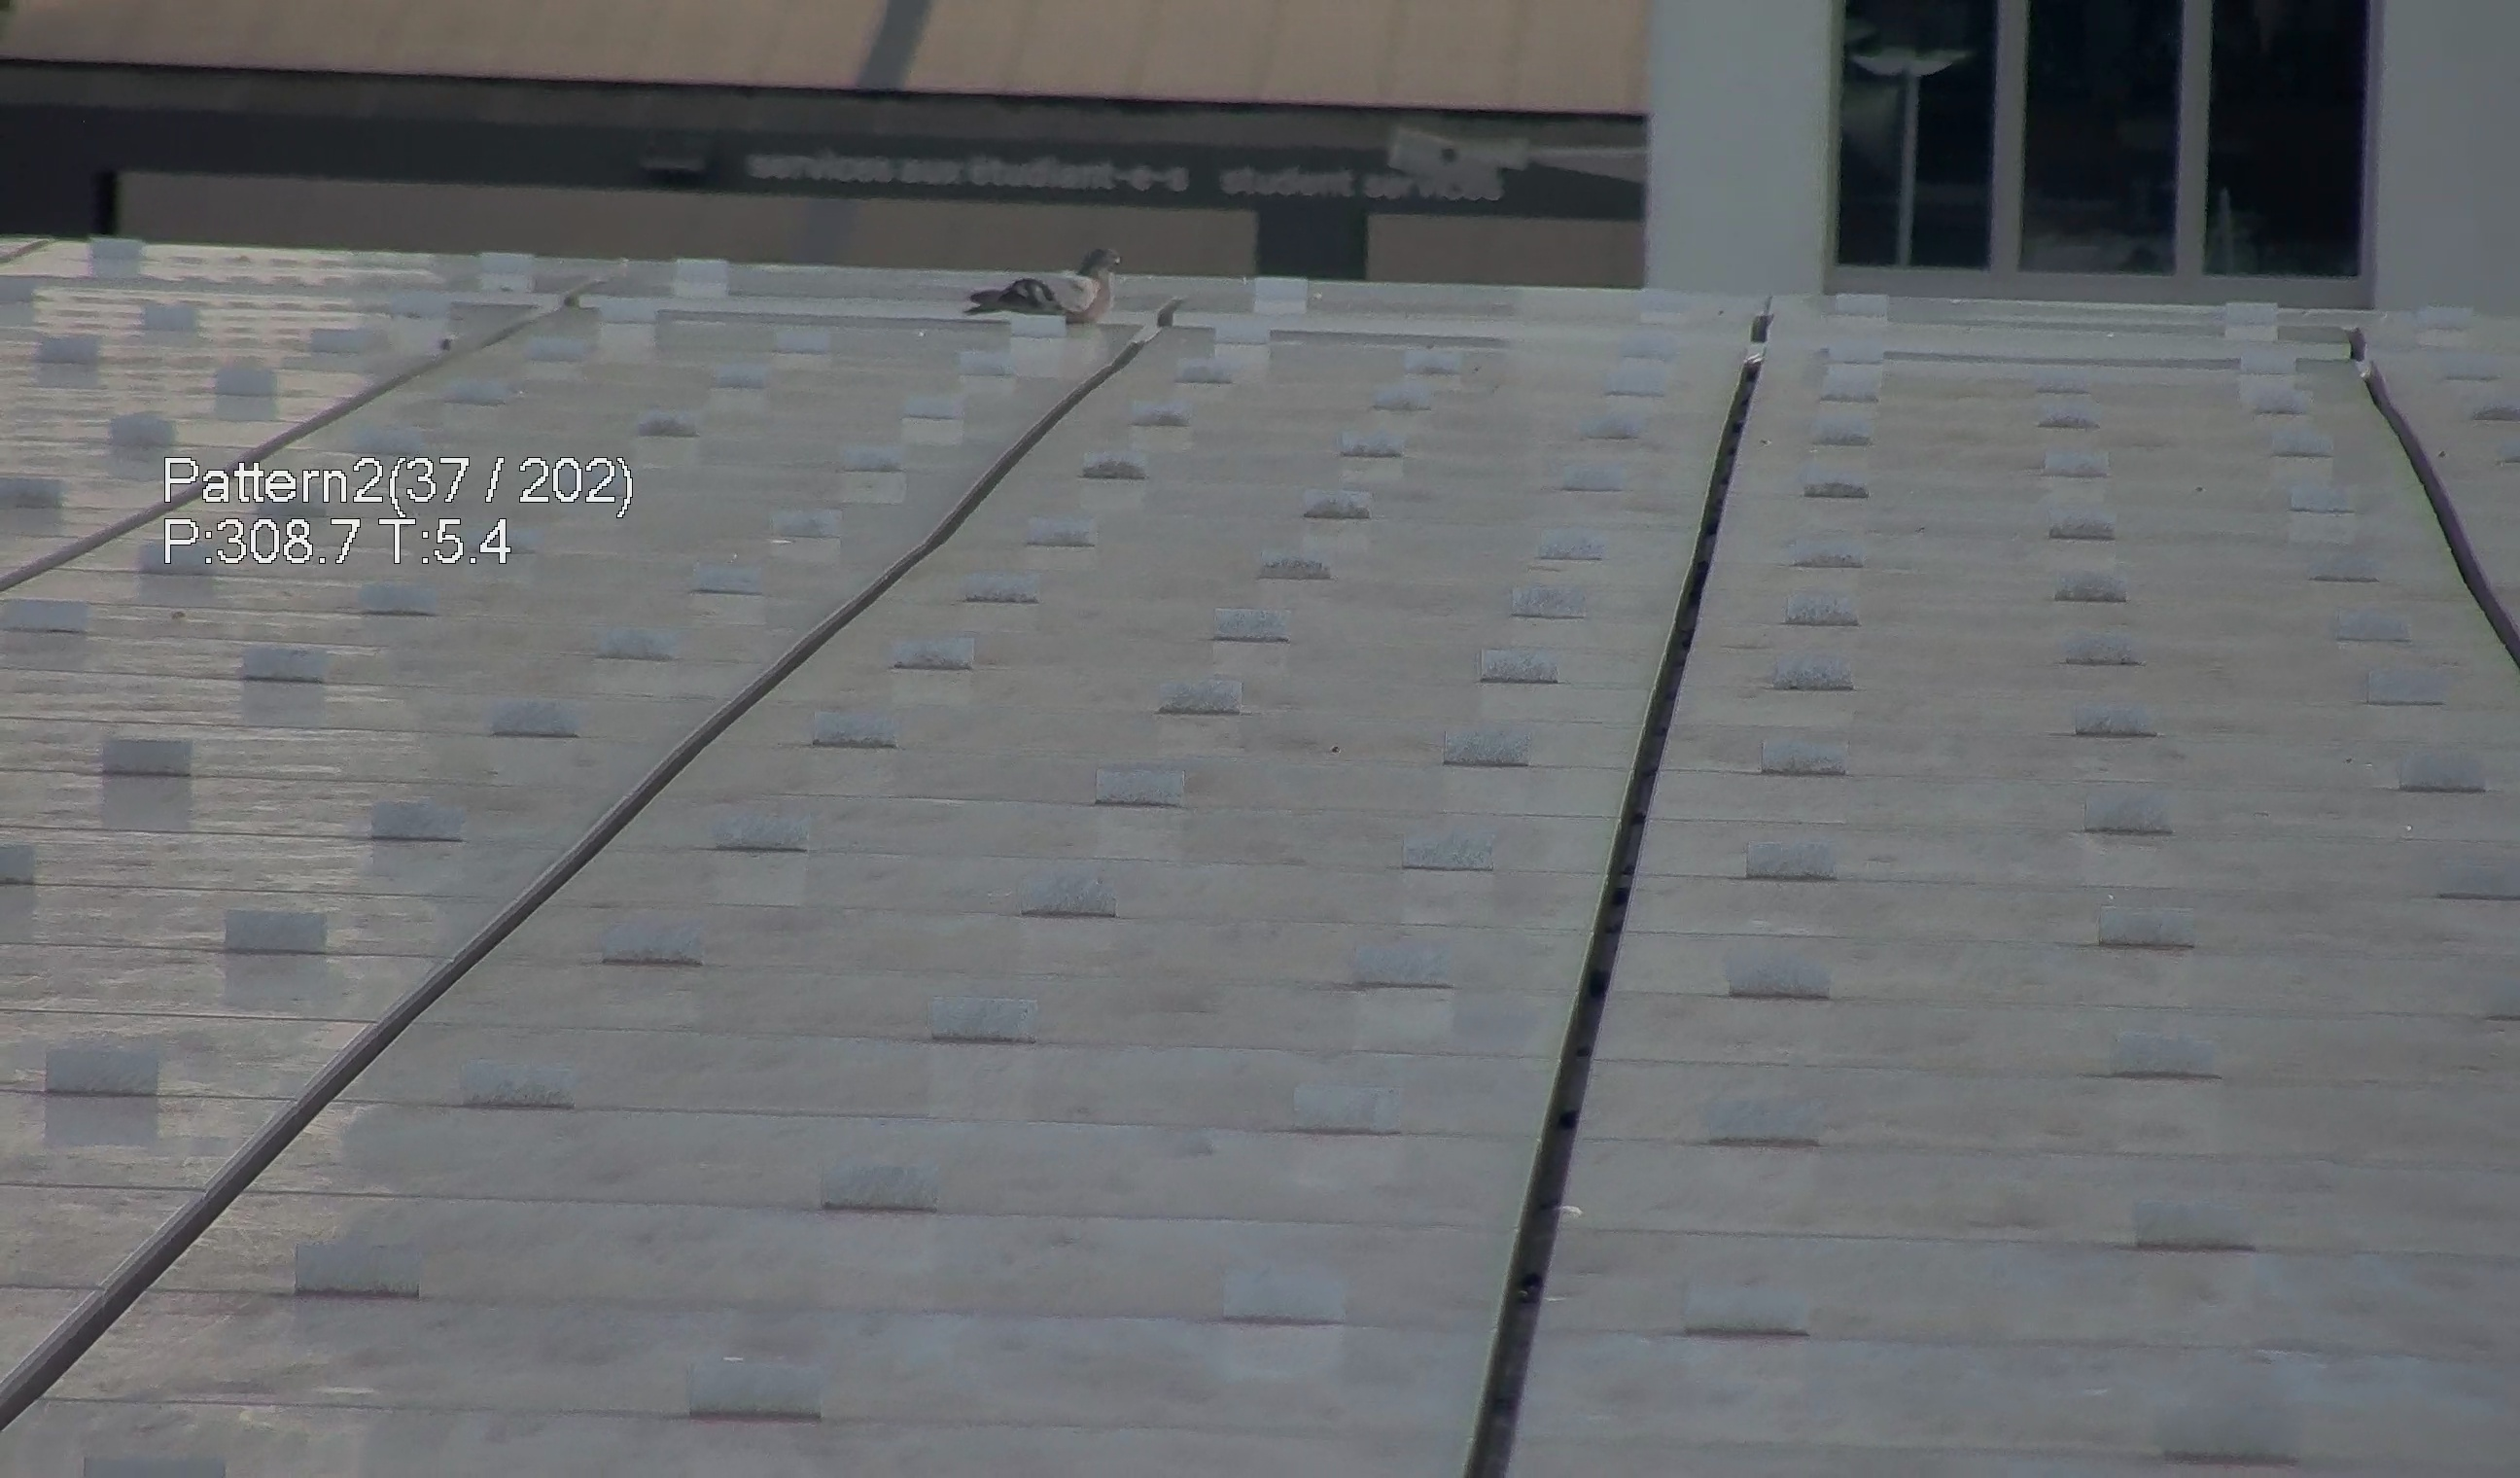Pigeon: (950, 232, 1118, 320)
